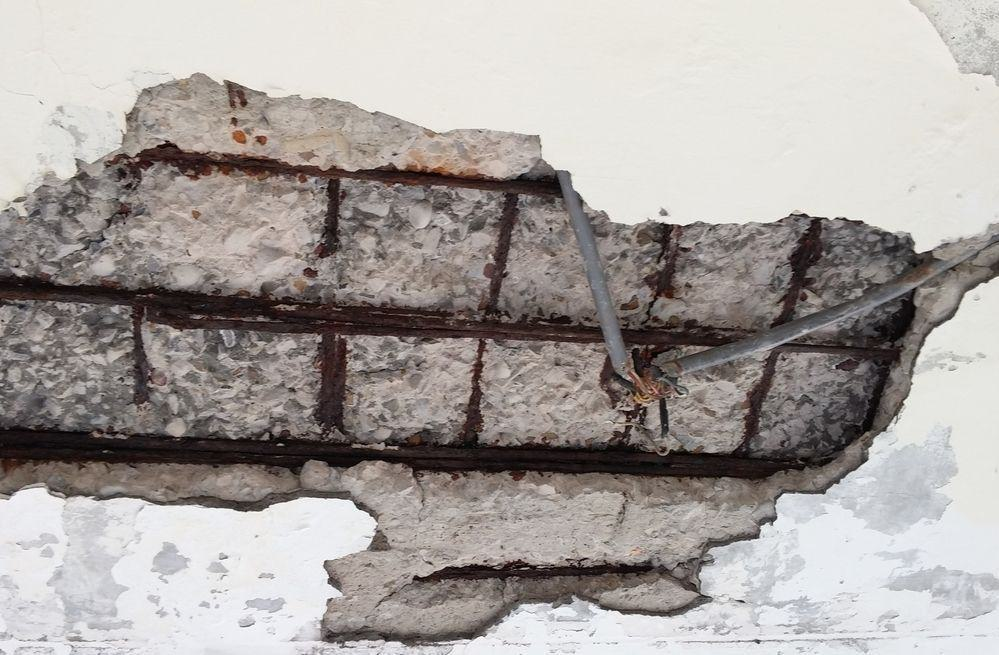Exposed reinforcement: (1, 275, 902, 365), (1, 424, 806, 480), (104, 141, 565, 199), (861, 286, 920, 434), (768, 218, 825, 329), (411, 562, 654, 583), (732, 351, 780, 455), (485, 195, 520, 313), (644, 223, 683, 316), (313, 333, 346, 431), (461, 338, 489, 434), (129, 305, 154, 406), (313, 178, 341, 257), (622, 403, 642, 440)
Spalling: (1, 71, 999, 655), (912, 1, 999, 77)
